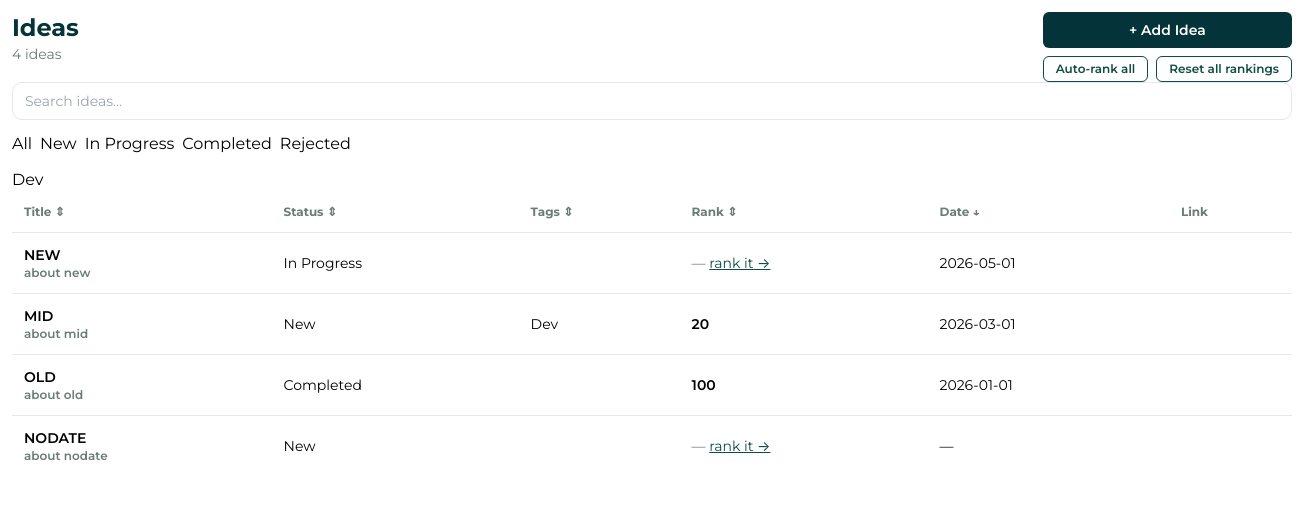
Test: bulk actions › auto-rank surfaces the AI stub error count/message
Expected: the row with test id "row-new" is shown, [12,232,1292,294]
Click the button "Auto-rank all" at (1096, 69), box [1043,56,1148,82]
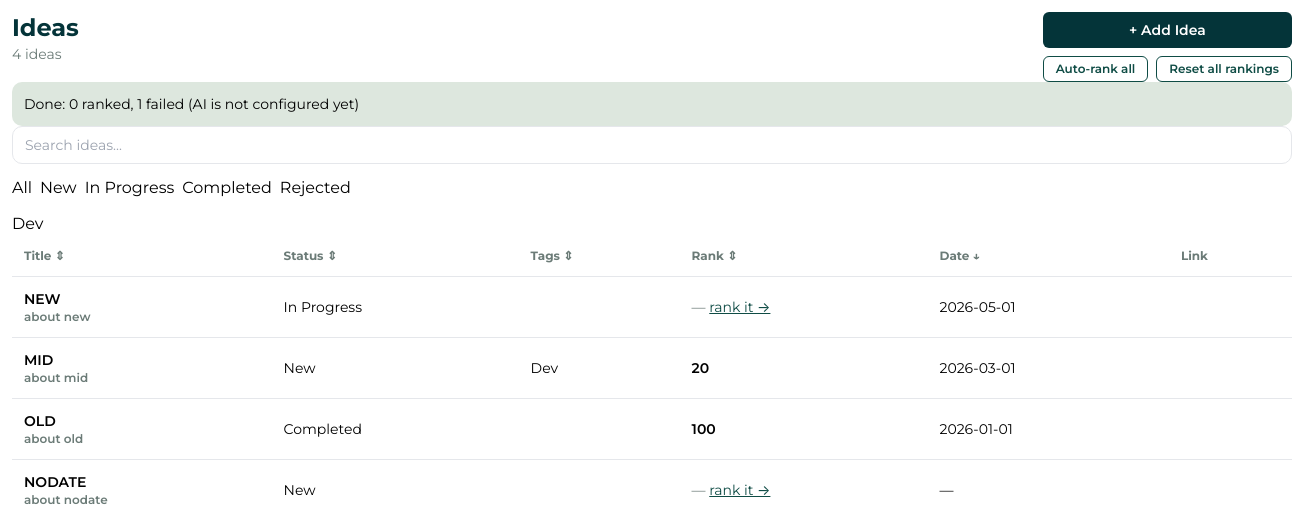
Now the text "Done: 0 ranked, 1 failed (AI is not configured yet)" is shown, box [12,82,1292,126]
